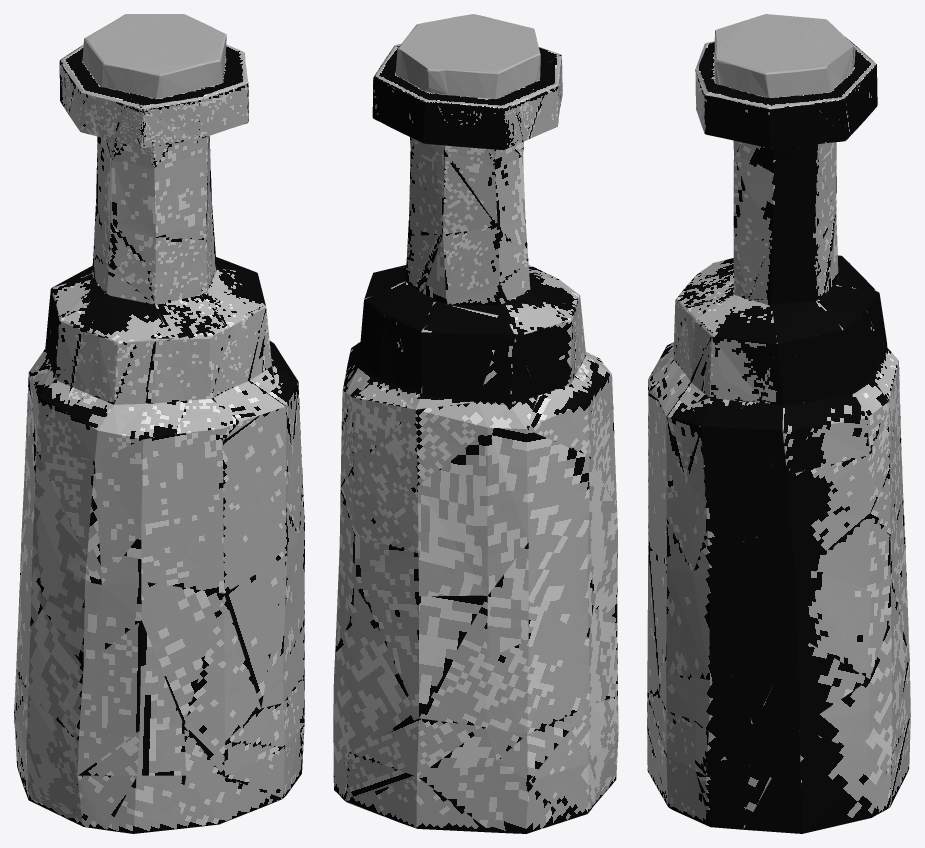
3 renders of one model, left to right at view 1: azimuth 30°, elevation 25°; view 2: azimuth 150°, elevation 25°; view 3: azimuth 270°, elevation 25°, orthographic.
Visible parts, largest first — view 1: OBJ0bf; view 2: OBJ0bf; view 3: OBJ0bf.
Boxes of the visible parts, bbox=[...] form: OBJ0bf: bbox=[14, 14, 304, 833]; OBJ0bf: bbox=[333, 14, 618, 833]; OBJ0bf: bbox=[647, 14, 910, 833].
Size of the model in its own units: 0.126 by 0.3556 by 0.1161.
Materials: 1 (1 with a texture image).
